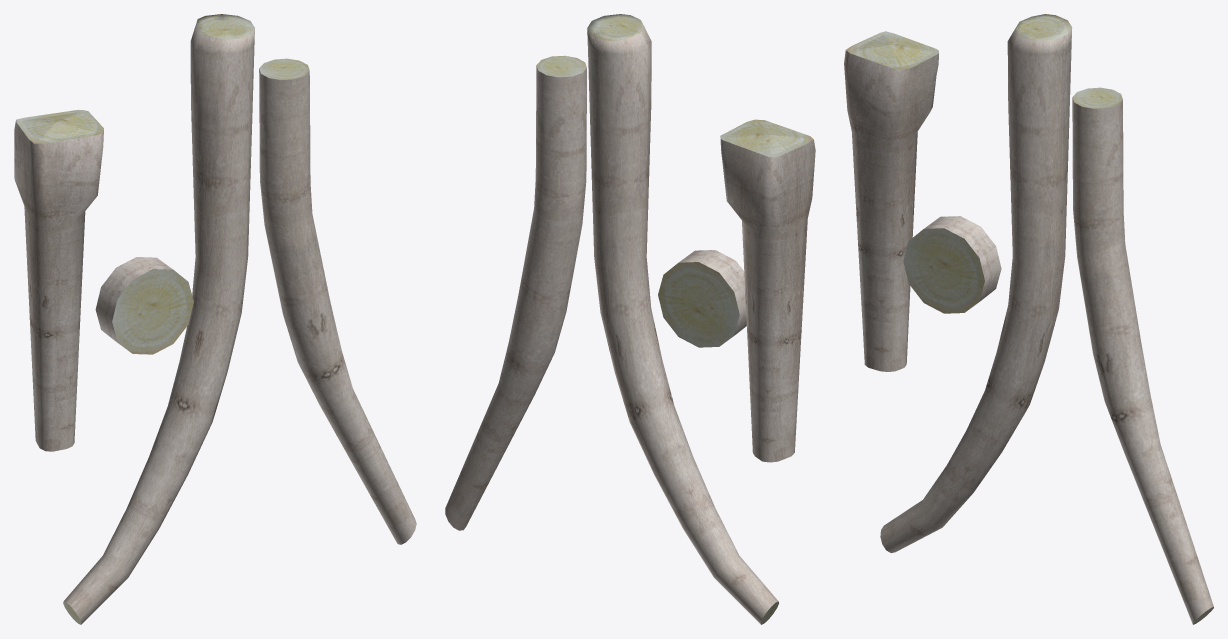
File: baishao.FBX
The picture shows the model from 3 angles, left to right: view 1: azimuth 30°, elevation 25°; view 2: azimuth 150°, elevation 25°; view 3: azimuth 330°, elevation 25°; orthographic projection.
Visible parts, largest first — view 1: Cylinder002, Cylinder003, Cylinder001, Cylinder004; view 2: Cylinder002, Cylinder003, Cylinder001, Cylinder004; view 3: Cylinder002, Cylinder003, Cylinder001, Cylinder004.
Part boxes in pixels (x1,y1,x2,y2): Cylinder002: (63,14,254,624); Cylinder003: (259,58,416,544); Cylinder001: (14,109,103,451); Cylinder004: (95,257,193,354); Cylinder002: (587,14,778,624); Cylinder003: (445,55,586,530); Cylinder001: (720,119,815,462); Cylinder004: (658,250,746,347); Cylinder002: (880,14,1072,552); Cylinder003: (1072,87,1213,624); Cylinder001: (844,31,938,371); Cylinder004: (903,216,1001,313).
Size of the model in its own units: 41.55 by 59.57 by 8.68.
1 material, 1 textured.
